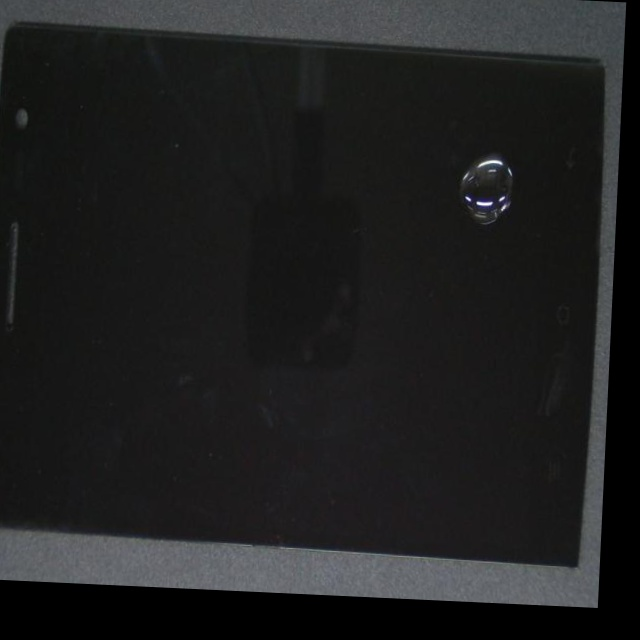oil: (238, 46, 623, 251)
